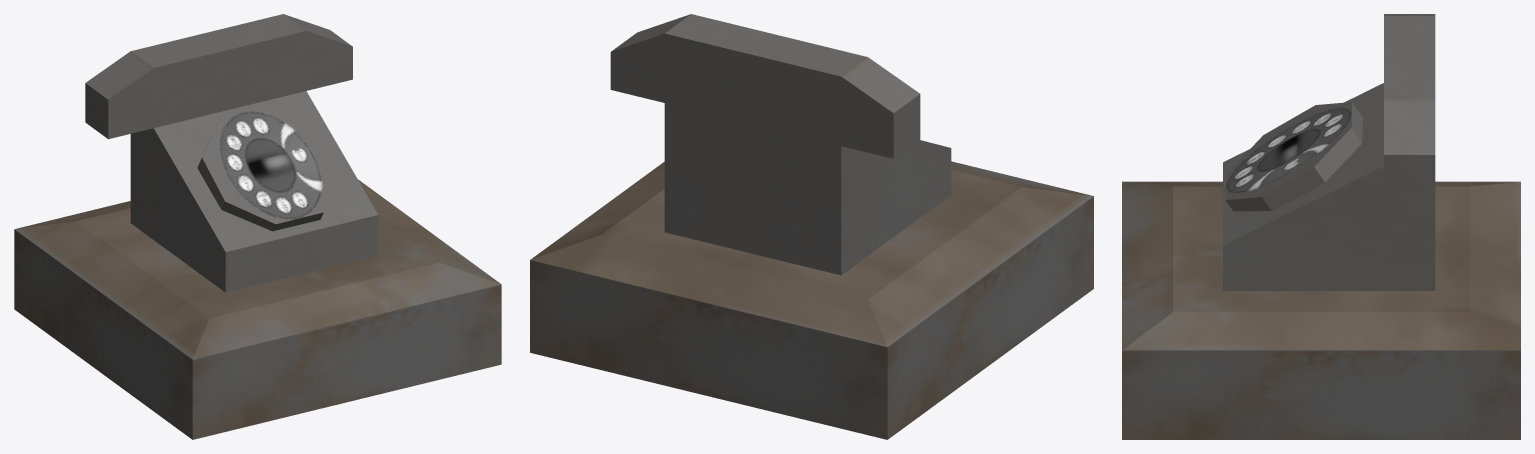
The model's file is MKU_landline_fin.fbx.
3 renders of one model, left to right at view 1: azimuth 30°, elevation 25°; view 2: azimuth 150°, elevation 25°; view 3: azimuth 270°, elevation 25°, orthographic. The views are drawn at different scales.
Parts seen in each view (by area): view 1: phone; view 2: phone; view 3: phone.
Part boxes in pixels (left/top/right/bottom): phone: left=14, top=14, right=501, bottom=439; phone: left=530, top=14, right=1093, bottom=439; phone: left=1122, top=14, right=1520, bottom=439.
Bounding box in the file's own units: 197 × 163 × 197.
